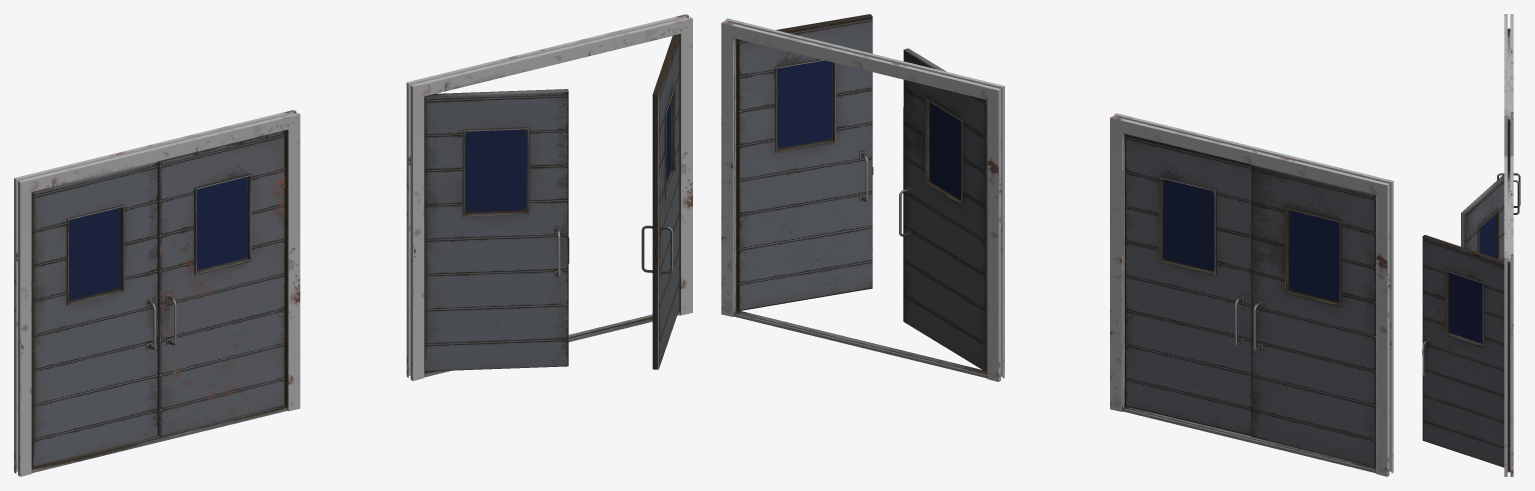
Rendered from double_door.glb.
The picture shows the model from 3 angles, left to right: view 1: azimuth 30°, elevation 25°; view 2: azimuth 150°, elevation 25°; view 3: azimuth 270°, elevation 25°; orthographic projection. The views are drawn at different scales.
Parts seen in each view (by area): view 1: L_2, R, L, frame, frame_2, R_2; view 2: R_2, R, L, L_2, frame_2, frame; view 3: R_2, frame_2, L_2, frame.
Boxes of the visible parts, <box> form: L_2: <box>424,89,569,371</box>; R: <box>158,130,285,436</box>; L: <box>31,161,158,467</box>; frame: <box>14,110,300,476</box>; frame_2: <box>406,14,692,380</box>; R_2: <box>641,34,679,369</box>; R_2: <box>737,14,873,311</box>; R: <box>1125,134,1251,435</box>; L: <box>1251,164,1375,467</box>; L_2: <box>899,48,987,371</box>; frame_2: <box>721,18,1004,381</box>; frame: <box>1110,113,1393,476</box>; R_2: <box>1422,235,1508,468</box>; frame_2: <box>1504,156,1513,476</box>; L_2: <box>1461,174,1504,260</box>; frame: <box>1504,14,1513,170</box>.
Size of the model in its own units: 5.86 by 2.45 by 0.9968.
1 material, 1 textured.
